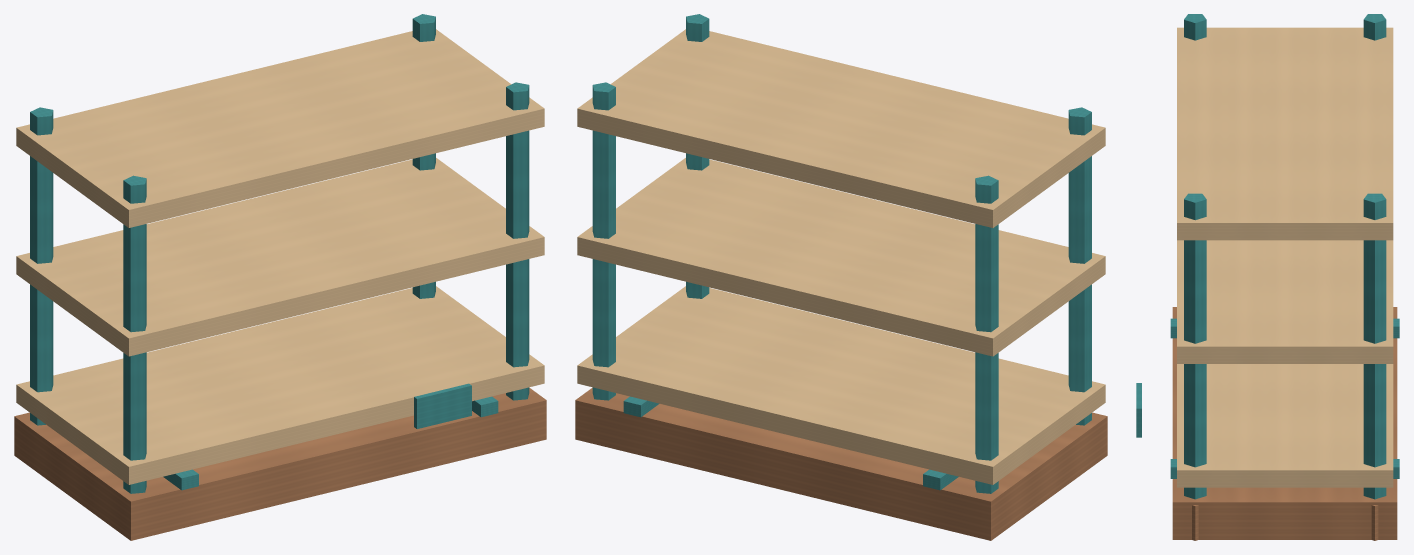
The model's file is atlas100-s093-a06.lod1.glb.
3 renders of one model, left to right at view 1: azimuth 30°, elevation 25°; view 2: azimuth 150°, elevation 25°; view 3: azimuth 270°, elevation 25°, orthographic. The views are drawn at different scales.
Parts seen in each view (by area): view 1: atlas100-s093-a06:part-013, atlas100-s093-a06:part-012, atlas100-s093-a06:part-011, atlas100-s093-a06:part-000, atlas100-s093-a06:part-005, atlas100-s093-a06:part-009, atlas100-s093-a06:part-003, atlas100-s093-a06:part-014, atlas100-s093-a06:part-007; view 2: atlas100-s093-a06:part-013, atlas100-s093-a06:part-011, atlas100-s093-a06:part-012, atlas100-s093-a06:part-000, atlas100-s093-a06:part-003, atlas100-s093-a06:part-007, atlas100-s093-a06:part-005, atlas100-s093-a06:part-009; view 3: atlas100-s093-a06:part-013, atlas100-s093-a06:part-011, atlas100-s093-a06:part-012, atlas100-s093-a06:part-000, atlas100-s093-a06:part-007, atlas100-s093-a06:part-009, atlas100-s093-a06:part-003, atlas100-s093-a06:part-005, atlas100-s093-a06:part-014.
Boxes of the visible parts, <box> form: atlas100-s093-a06:part-013: <box>16,29,544,227</box>; atlas100-s093-a06:part-012: <box>16,158,544,356</box>; atlas100-s093-a06:part-011: <box>16,286,544,484</box>; atlas100-s093-a06:part-000: <box>14,388,546,540</box>; atlas100-s093-a06:part-005: <box>123,175,146,493</box>; atlas100-s093-a06:part-009: <box>506,82,529,400</box>; atlas100-s093-a06:part-003: <box>30,107,53,425</box>; atlas100-s093-a06:part-014: <box>414,383,471,428</box>; atlas100-s093-a06:part-007: <box>412,14,435,298</box>; atlas100-s093-a06:part-013: <box>577,29,1105,227</box>; atlas100-s093-a06:part-011: <box>577,286,1105,484</box>; atlas100-s093-a06:part-012: <box>577,158,1105,356</box>; atlas100-s093-a06:part-000: <box>575,388,1107,540</box>; atlas100-s093-a06:part-003: <box>975,175,998,493</box>; atlas100-s093-a06:part-007: <box>592,82,615,400</box>; atlas100-s093-a06:part-005: <box>1068,107,1091,425</box>; atlas100-s093-a06:part-009: <box>686,14,709,298</box>; atlas100-s093-a06:part-013: <box>1177,27,1393,240</box>; atlas100-s093-a06:part-011: <box>1177,364,1393,487</box>; atlas100-s093-a06:part-012: <box>1177,240,1393,363</box>; atlas100-s093-a06:part-000: <box>1172,307,1397,539</box>; atlas100-s093-a06:part-007: <box>1363,193,1386,499</box>; atlas100-s093-a06:part-009: <box>1184,193,1206,499</box>; atlas100-s093-a06:part-003: <box>1363,14,1386,40</box>; atlas100-s093-a06:part-005: <box>1184,14,1206,40</box>; atlas100-s093-a06:part-014: <box>1136,383,1141,437</box>.
Bounding box in the file's own units: 2.89 × 2.3 × 1.64.
Materials: 3 (3 with a texture image).
